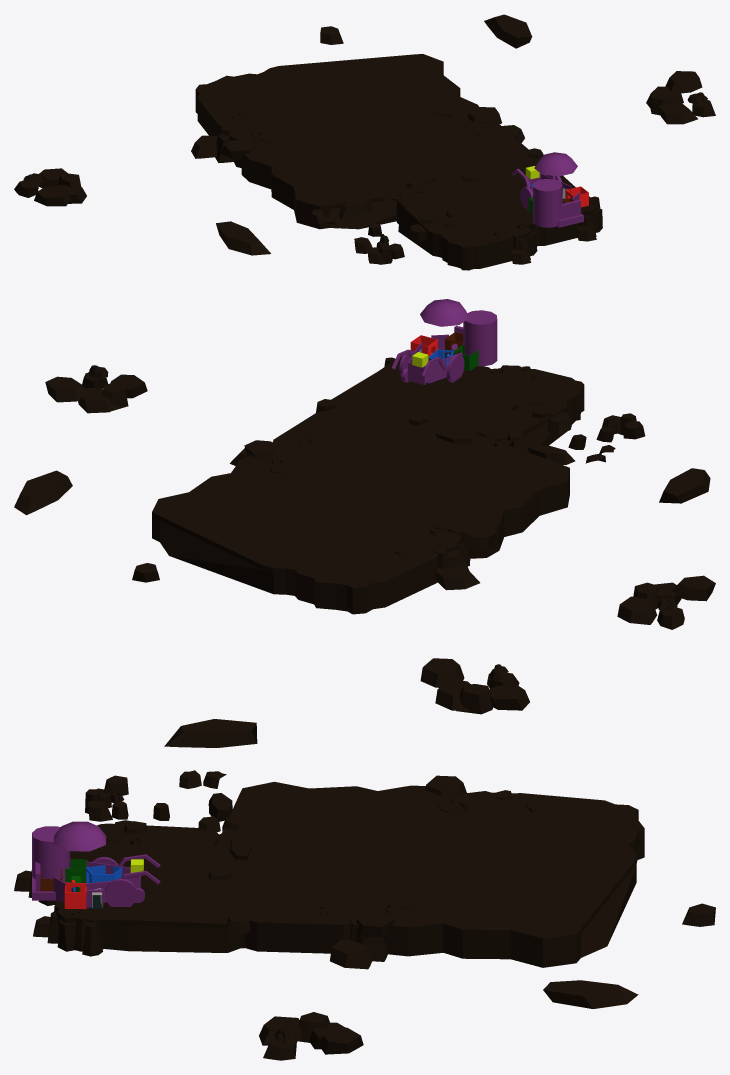
Rendered from MaquetaBase.FBX.
3 views of the same model, one above another, from view 1: azimuth 30°, elevation 25°; view 2: azimuth 150°, elevation 25°; view 3: azimuth 270°, elevation 25° (orthographic). The views are drawn at different scales.
Parts seen in each view (by area): view 1: terreno004, terreno003, terreno002, terreno001, Object001, Object009; view 2: terreno004, terreno003, terreno002, terreno001, Object001; view 3: terreno004, terreno003, terreno001, terreno002, Object001, Cylinder003.
Boxes of the visible parts, <box> form: terreno004: <box>191,14,715,167</box>; terreno003: <box>14,108,529,255</box>; terreno002: <box>311,171,537,270</box>; terreno001: <box>377,148,602,246</box>; Object001: <box>511,152,588,227</box>; Object009: <box>557,200,583,227</box>; terreno004: <box>14,365,479,614</box>; terreno003: <box>230,405,715,629</box>; terreno002: <box>409,365,645,464</box>; terreno001: <box>316,356,551,446</box>; Object001: <box>391,299,497,384</box>; terreno004: <box>259,790,715,1060</box>; terreno003: <box>114,658,529,969</box>; terreno001: <box>33,816,251,956</box>; terreno002: <box>14,770,232,905</box>; Object001: <box>32,821,160,909</box>; Cylinder003: <box>105,878,136,906</box>.
Bounding box in the file's own units: 8943 × 1090 × 6873.
